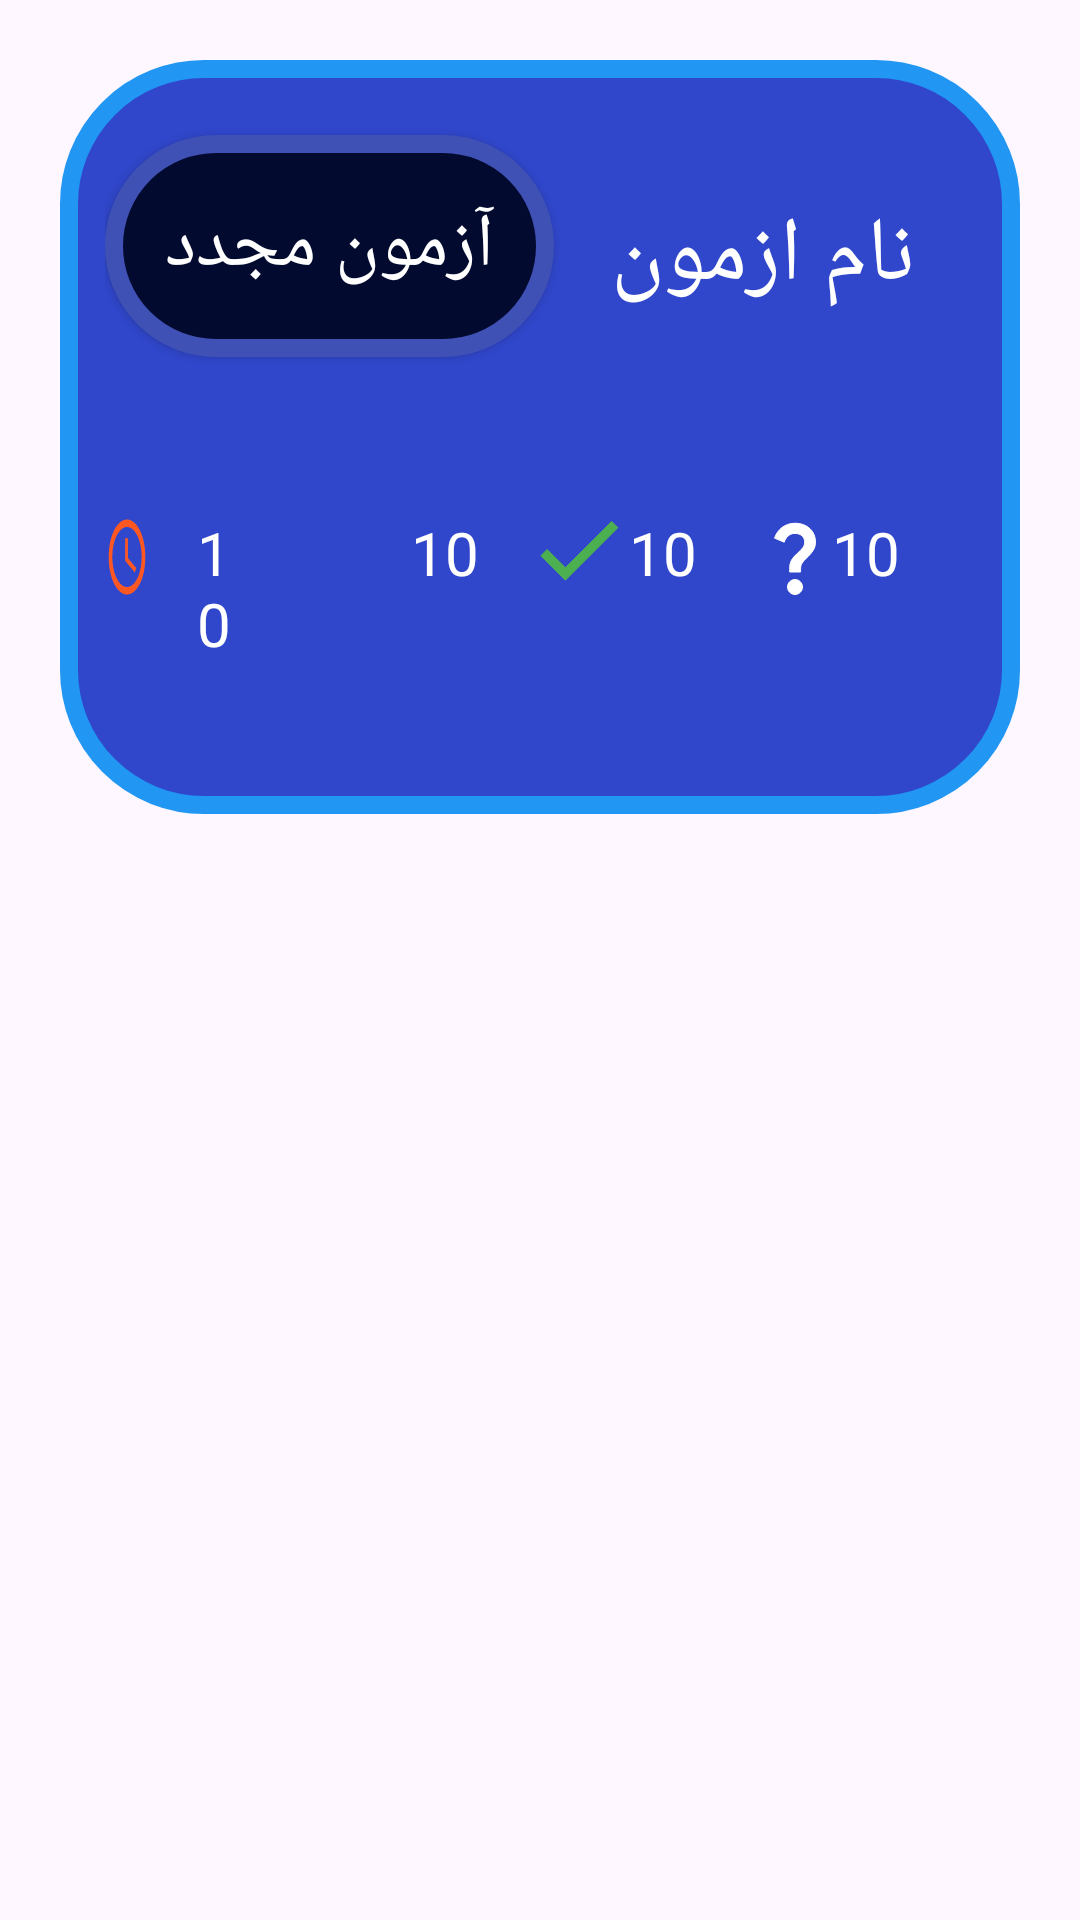

Screen size 1080 × 1920. Icon name, then its center in pixels as point (x, y):
access time: point (127, 557)
check: point (579, 550)
question mark: point (795, 558)
